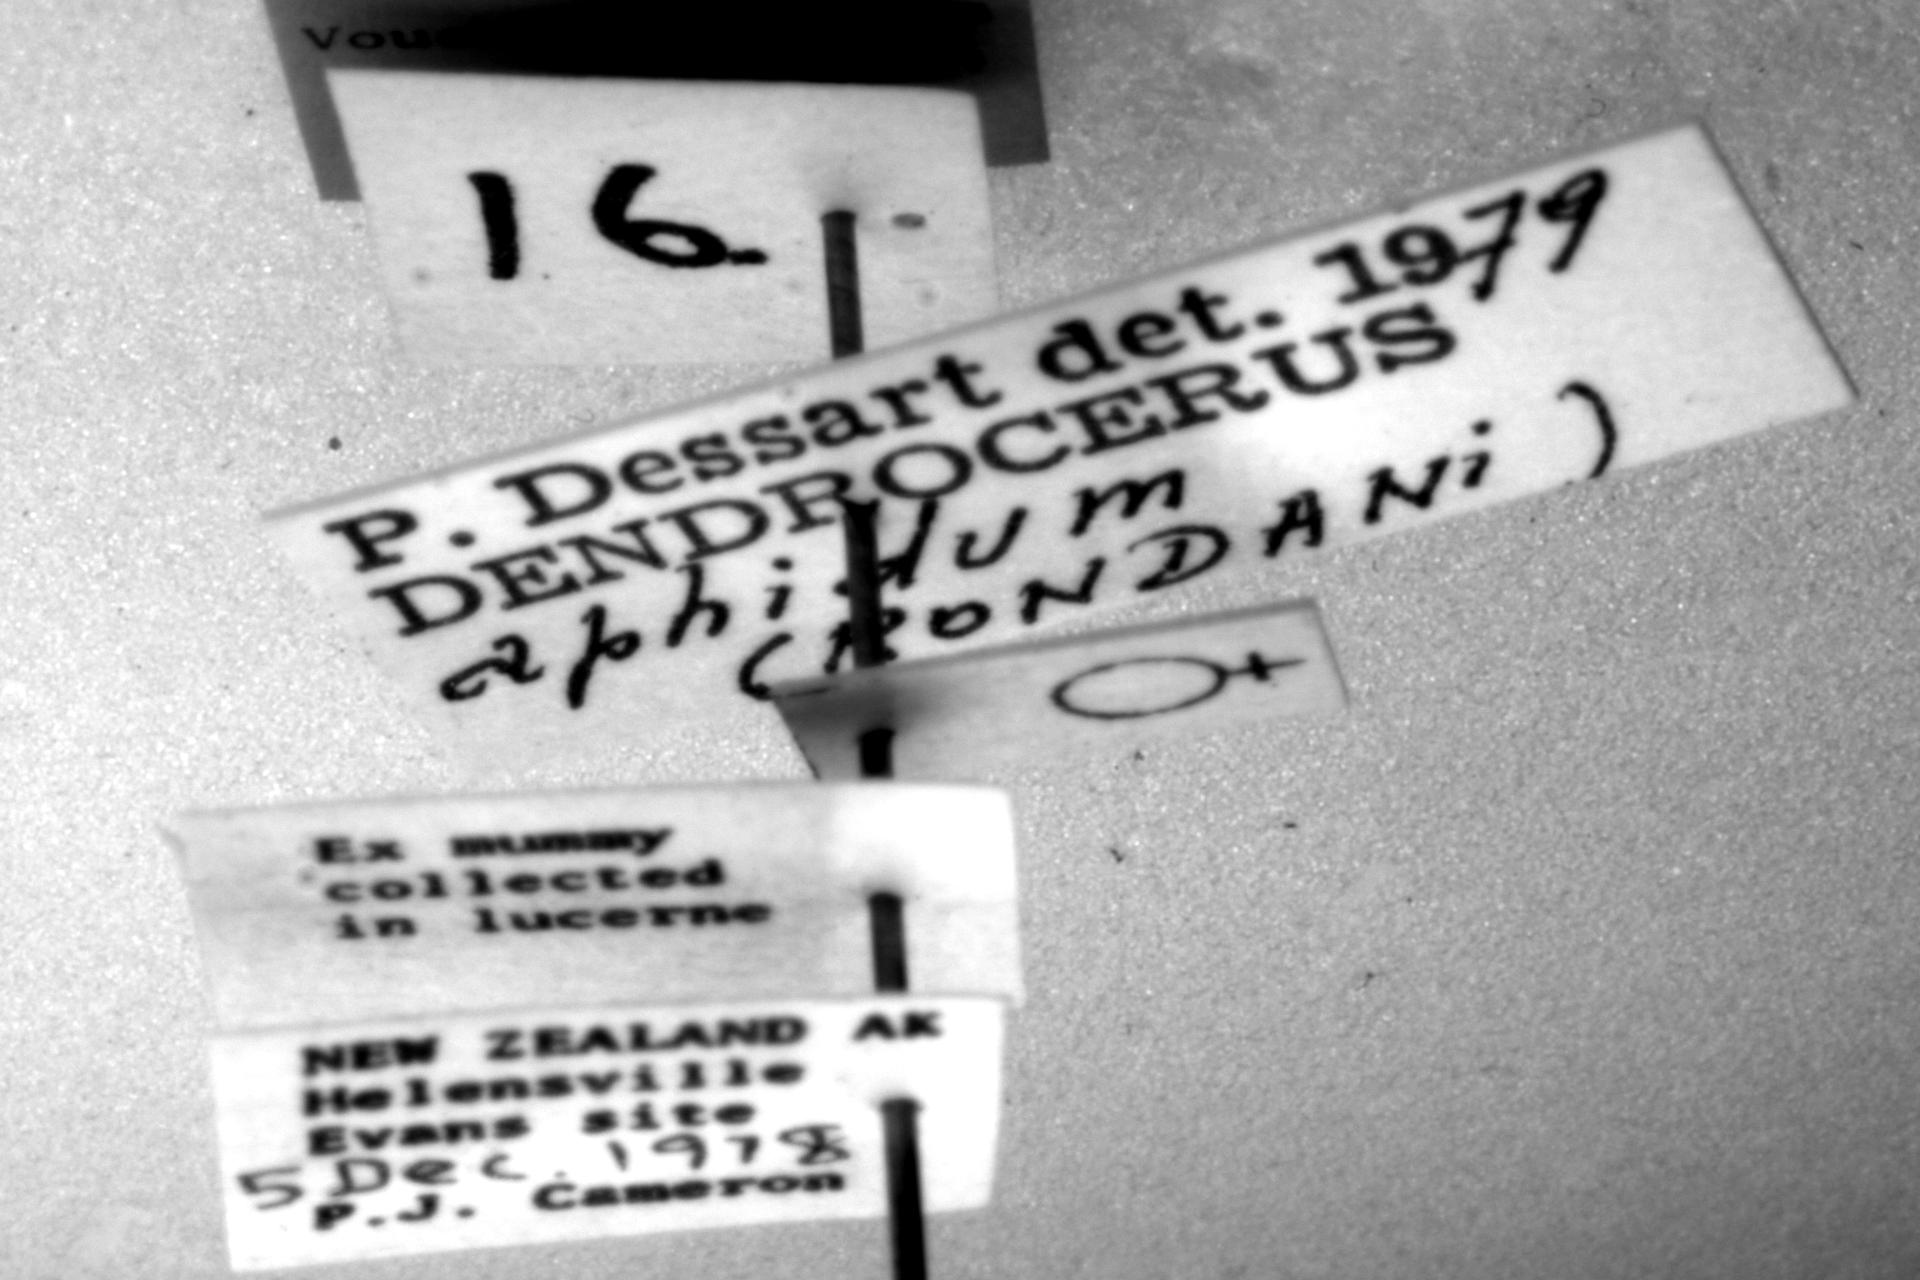hand_label: (330, 67, 997, 364)
mixed_label: (270, 124, 1853, 773), (210, 997, 1006, 1271)
typed_label: (176, 784, 1024, 1031), (773, 600, 1346, 780)
